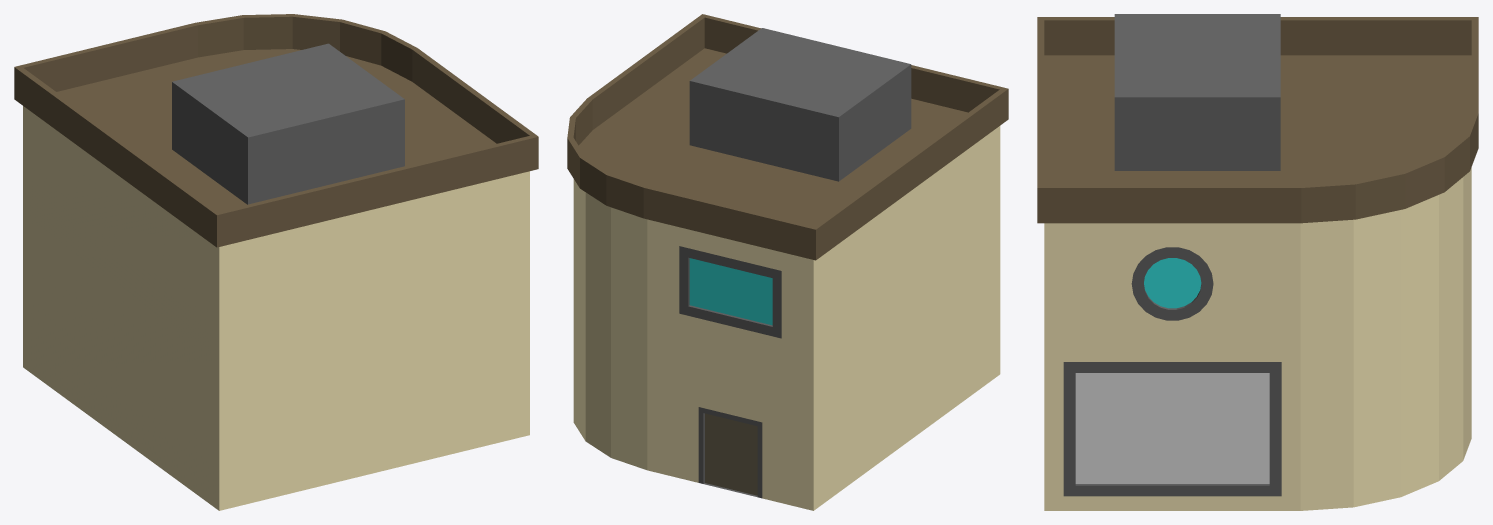
File: random res build 11.fbx
The picture shows the model from 3 angles, left to right: view 1: azimuth 30°, elevation 25°; view 2: azimuth 150°, elevation 25°; view 3: azimuth 270°, elevation 25°; orthographic projection. The views are drawn at different scales.
Parts seen in each view (by area): view 1: building_011; view 2: building_011; view 3: building_011.
Boxes of the visible parts, left/top/right/bottom form: building_011: left=14, top=14, right=538, bottom=510; building_011: left=567, top=14, right=1008, bottom=510; building_011: left=1037, top=14, right=1478, bottom=510.
Size of the model in its own units: 2727 by 2710 by 2973.
